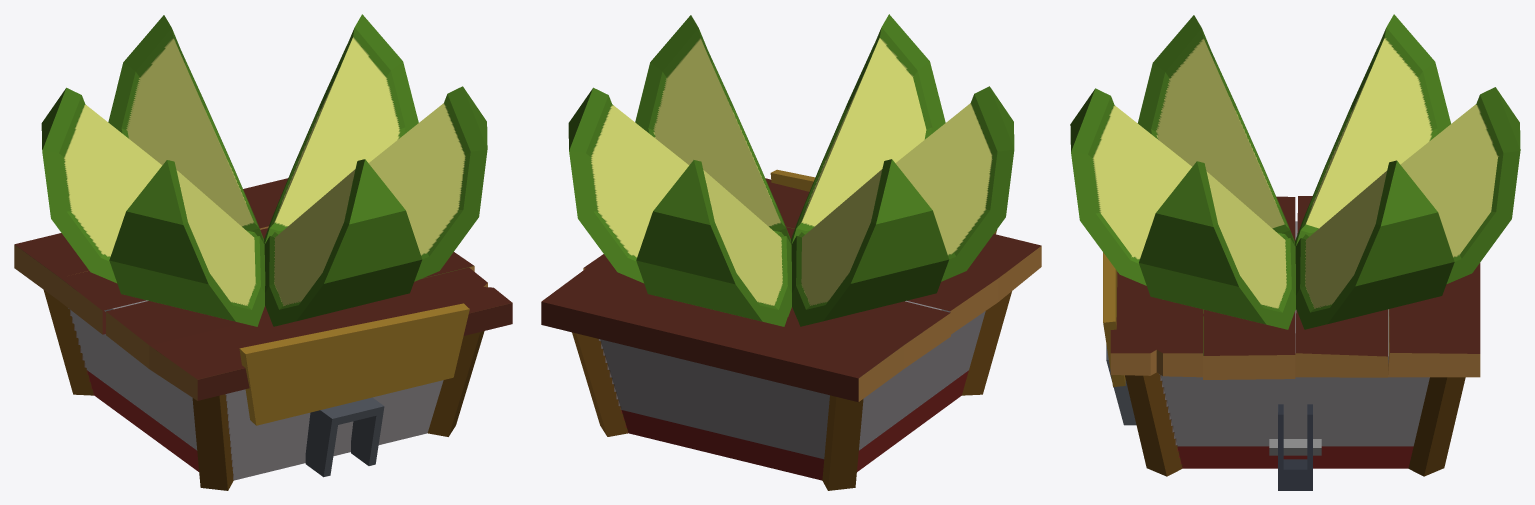
The model's file is qiegua.fbx.
3 views of the same model, side by side, from view 1: azimuth 30°, elevation 25°; view 2: azimuth 150°, elevation 25°; view 3: azimuth 270°, elevation 25° (orthographic).
Visible parts, largest first — view 1: 立方体.004; view 2: 立方体.004; view 3: 立方体.004.
Boxes of the visible parts, x1,y1,x2,y2 form: 立方体.004: [14, 14, 512, 490]; 立方体.004: [541, 14, 1041, 490]; 立方体.004: [1070, 14, 1520, 490].
Size of the model in its own units: 325 by 270 by 338.
1 material, 1 textured.
